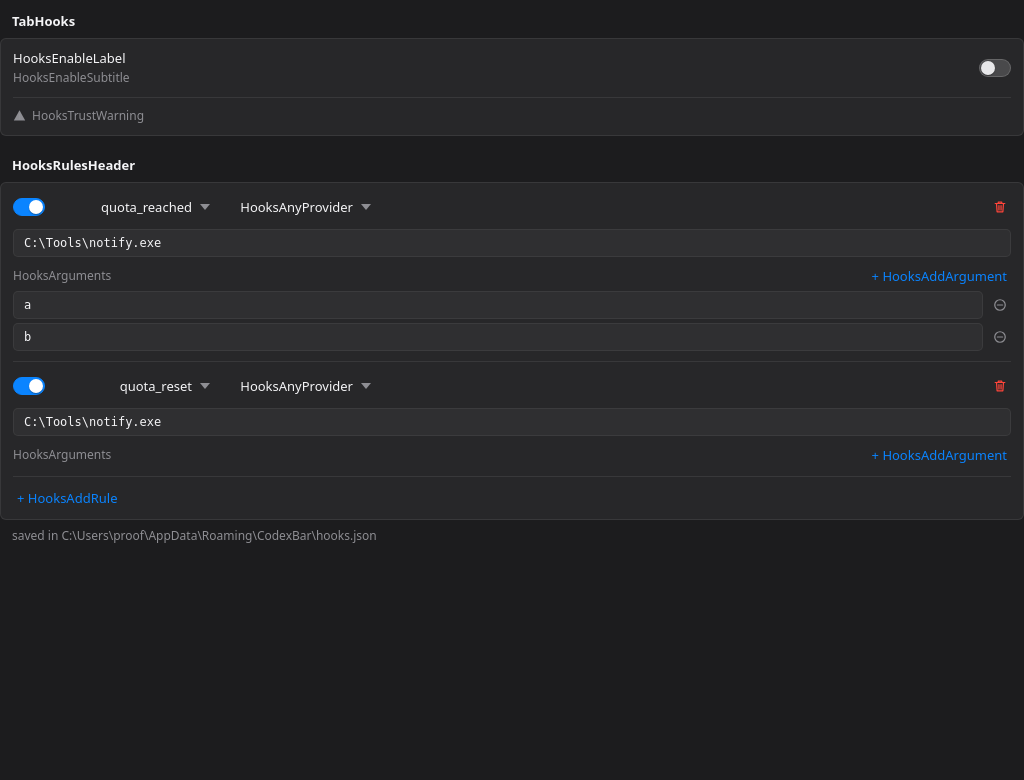
HooksTab › deletes a rule and an argument
Expected: the text "HooksTrustWarning" is shown, 32,108 -> 144,125
What coordinates should you click on to do the following:
click the 1st button named "HooksDeleteArgument"
I would click on:
 (1000, 305)
Its box is 989,296 -> 1011,314.
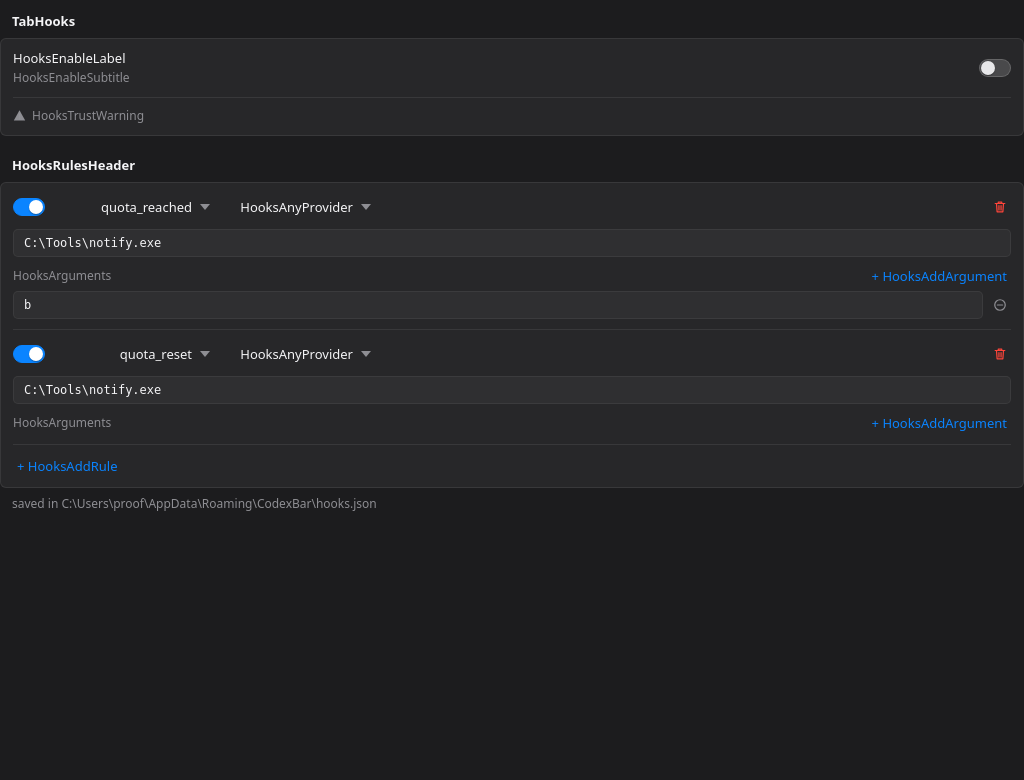
What coordinates should you click on to do the following:
click the 1st button named "HooksDeleteRule"
I would click on:
 (1000, 207)
Its box is 989,198 -> 1011,216.
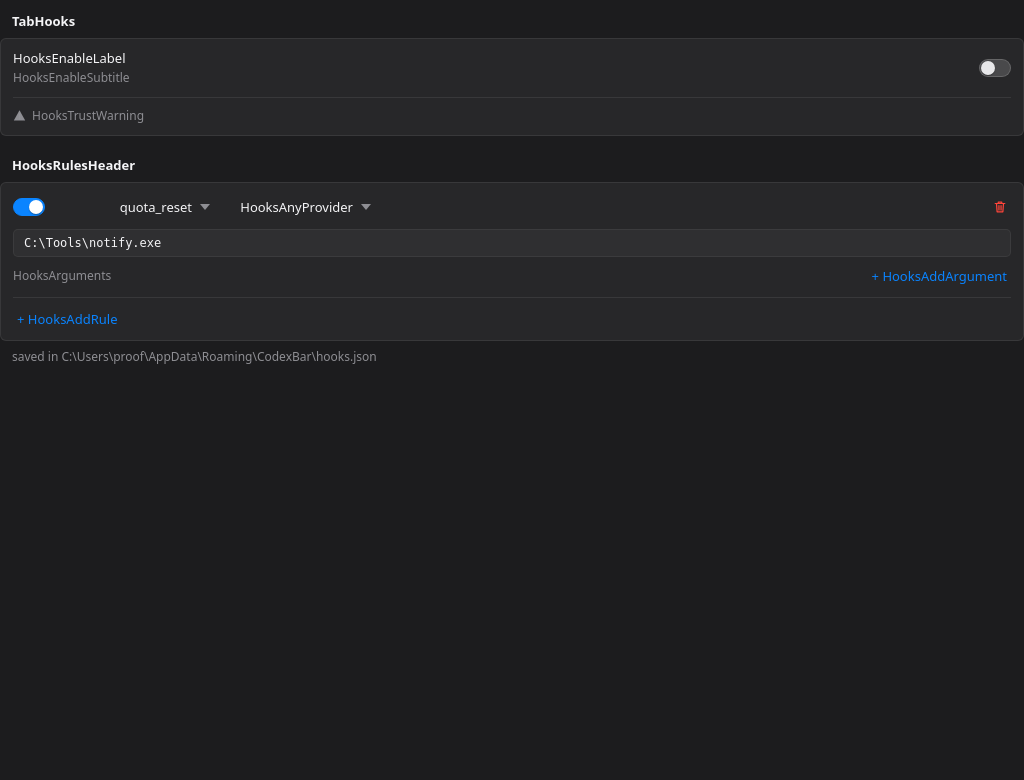
Result: the number of elements with test id "hook-rule" is 1 at 13,183 -> 1011,297
